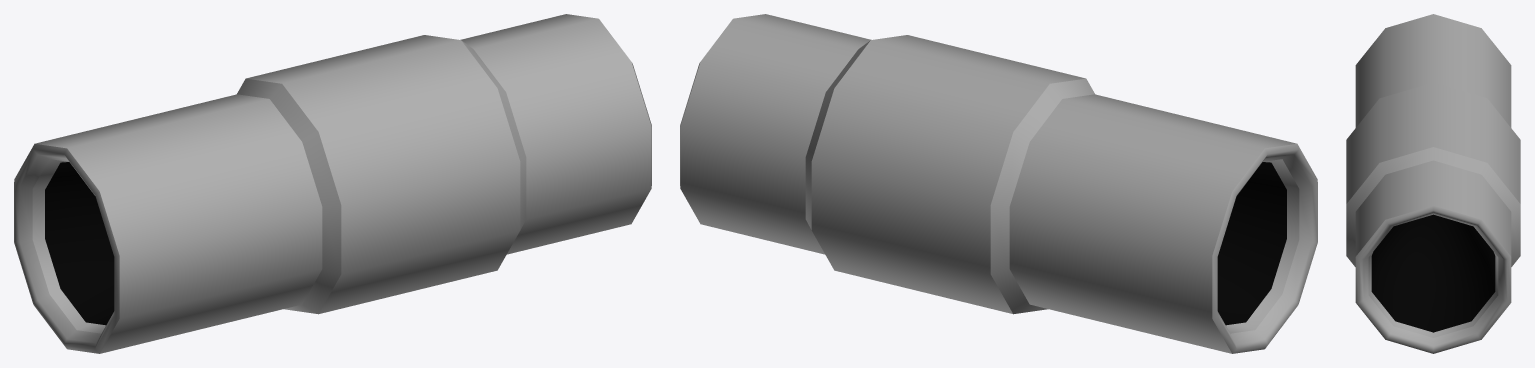
File: prop_vent1_rounded.fbx
The picture shows the model from 3 angles, left to right: view 1: azimuth 30°, elevation 25°; view 2: azimuth 150°, elevation 25°; view 3: azimuth 270°, elevation 25°; orthographic projection. The views are drawn at different scales.
Parts seen in each view (by area): view 1: prop_vent12; view 2: prop_vent12; view 3: prop_vent12.
Part boxes in pixels (x1=…): prop_vent12: x1=14, y1=14, x2=651, y2=353; prop_vent12: x1=680, y1=14, x2=1317, y2=353; prop_vent12: x1=1346, y1=14, x2=1520, y2=353.
Bounding box in the file's own units: 440 × 176 × 168.
